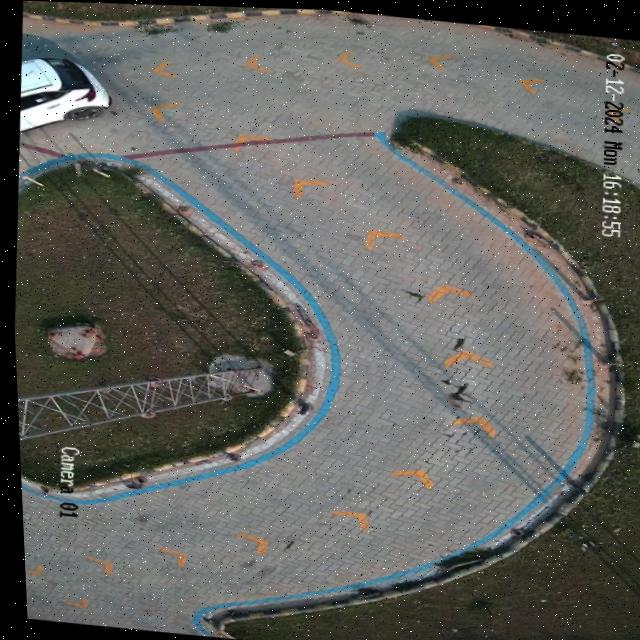car: (18, 57, 107, 131)
